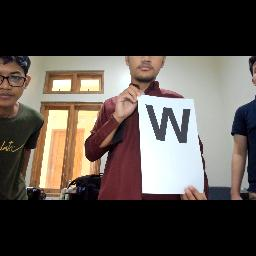w: (144, 101, 194, 149)
